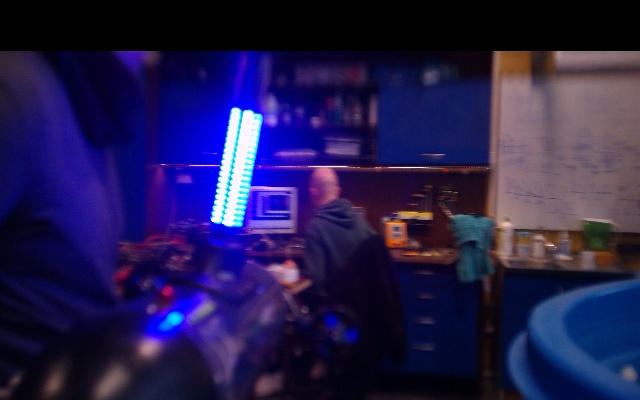blue: (207, 107, 262, 229)
